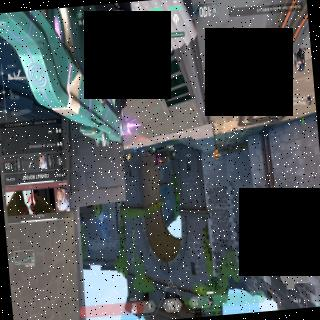ENEMY-BODY: (154, 148, 160, 170)
ENEMY-HEAD: (157, 164, 159, 168)
